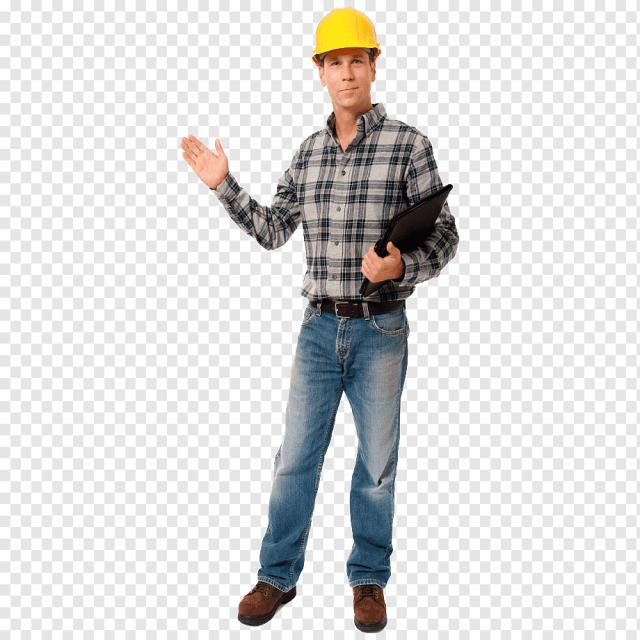Safety-Helmet: (312, 6, 382, 56)
